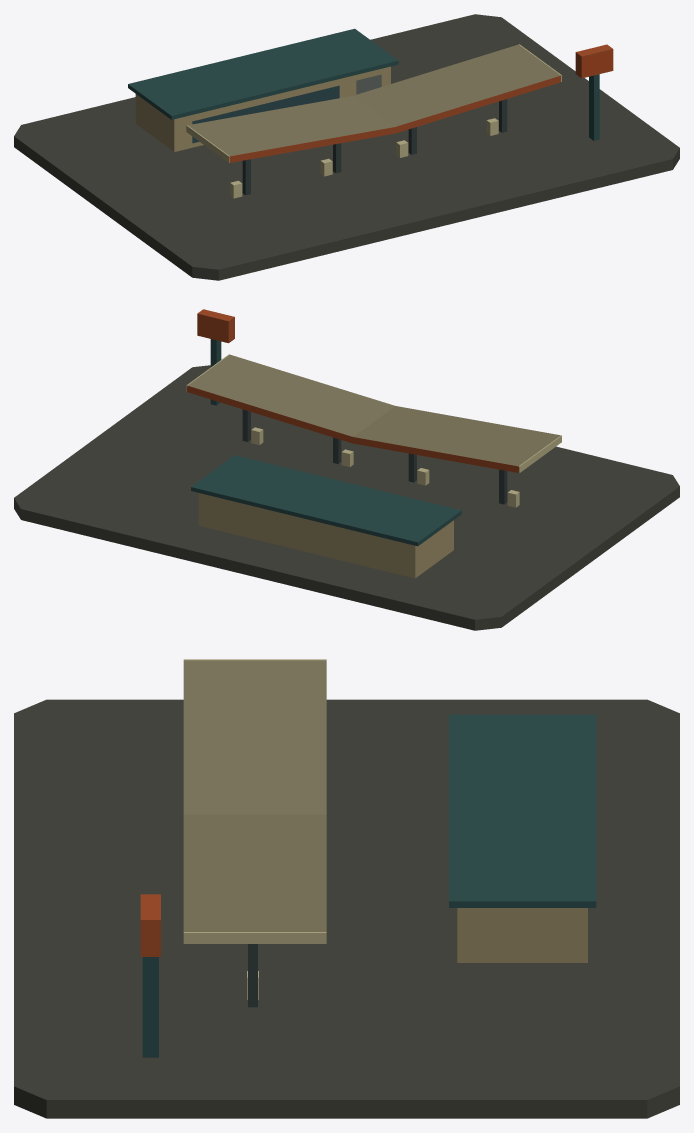
Rendered from service.glb.
The picture shows the model from 3 angles, top to bottom: view 1: azimuth 30°, elevation 25°; view 2: azimuth 150°, elevation 25°; view 3: azimuth 270°, elevation 25°; orthographic projection. The views are drawn at different scales.
Parts seen in each view (by area): view 1: service; view 2: service; view 3: service.
Part boxes in pixels (x1,y1,x2,y2): service: (14, 14, 679, 280); service: (14, 309, 679, 630); service: (14, 659, 679, 1118).
Bounding box in the file's own units: 232 × 45 × 163.
